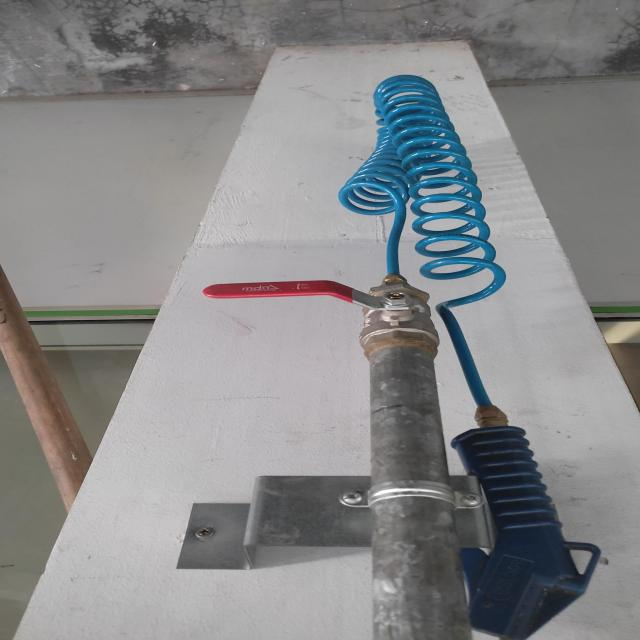closed_valve: (201, 278, 444, 338)
